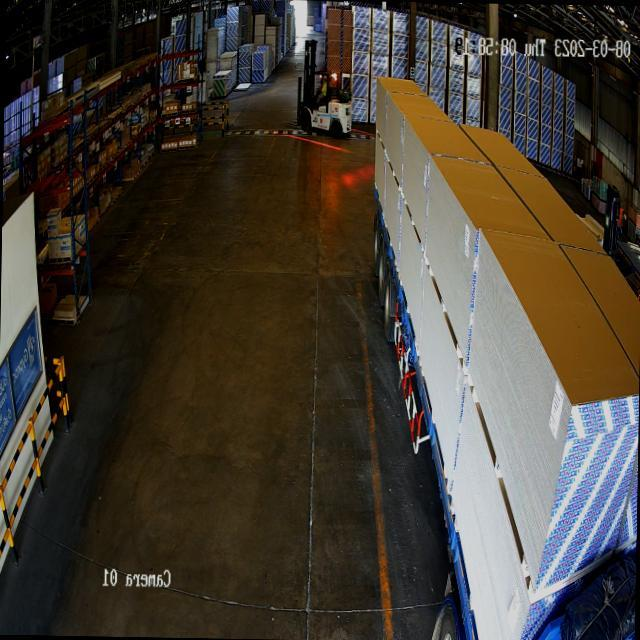forklift: (296, 63, 354, 141)
